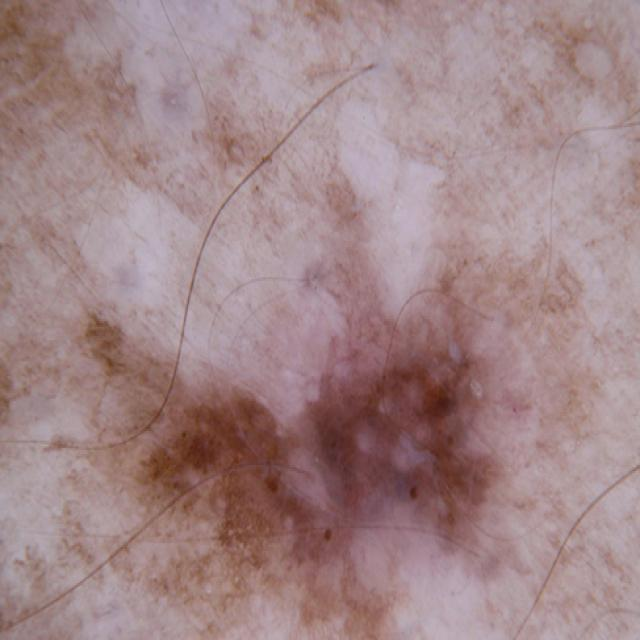Keratosis: (321, 283, 544, 640), (127, 357, 305, 640)
